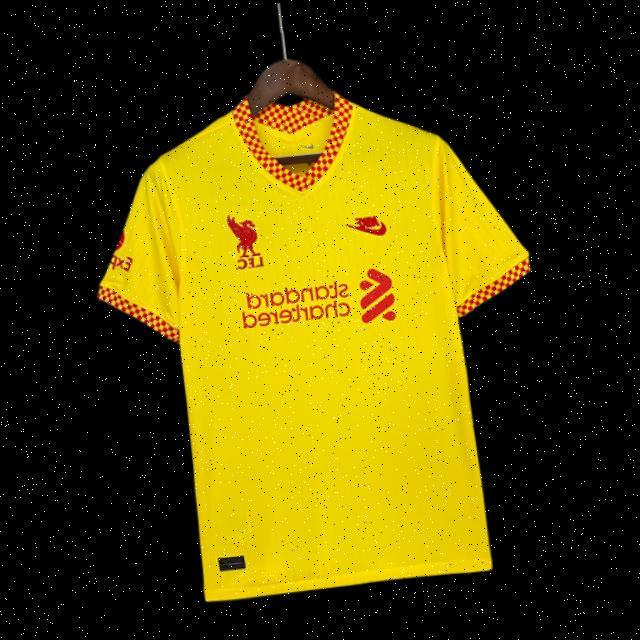Nike: (347, 211, 392, 241)
Standard Chartered: (236, 263, 398, 342)
